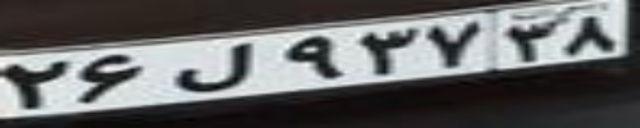2: (4, 59, 66, 111)
3: (358, 27, 420, 75), (504, 20, 559, 61)
6: (78, 54, 144, 103)
7: (425, 19, 480, 69)
8: (562, 15, 619, 53)
9: (281, 35, 345, 78)
lam: (169, 41, 253, 94)
